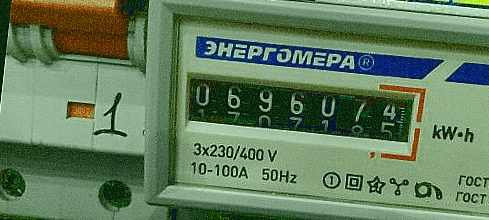0: (191, 80, 213, 106), (318, 90, 338, 118)
4: (380, 96, 398, 120)
5: (378, 119, 396, 141)
6: (286, 87, 307, 116), (223, 82, 244, 109)
7: (349, 95, 368, 123)
9: (255, 85, 274, 112)
screen: (170, 58, 430, 165)
